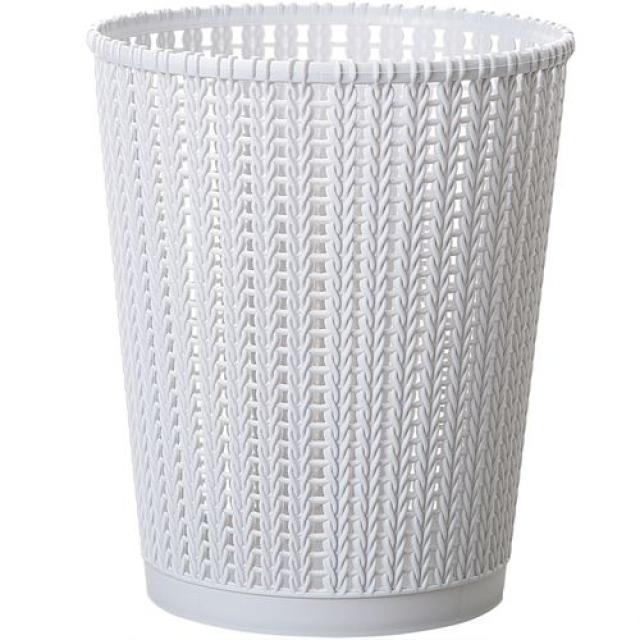dustbin: (81, 0, 580, 639)
